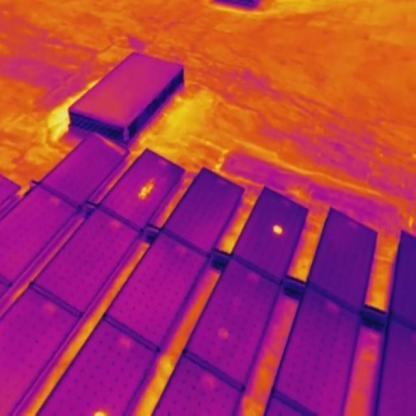anomaly: (138, 179, 157, 202), (270, 223, 285, 237), (93, 407, 106, 416)
